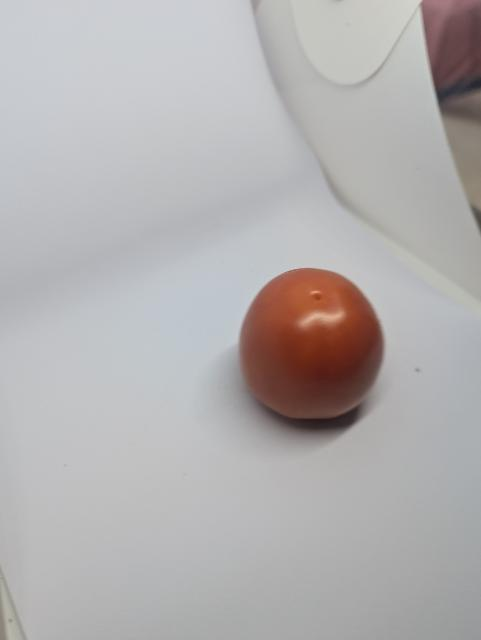red: (230, 257, 392, 435)
